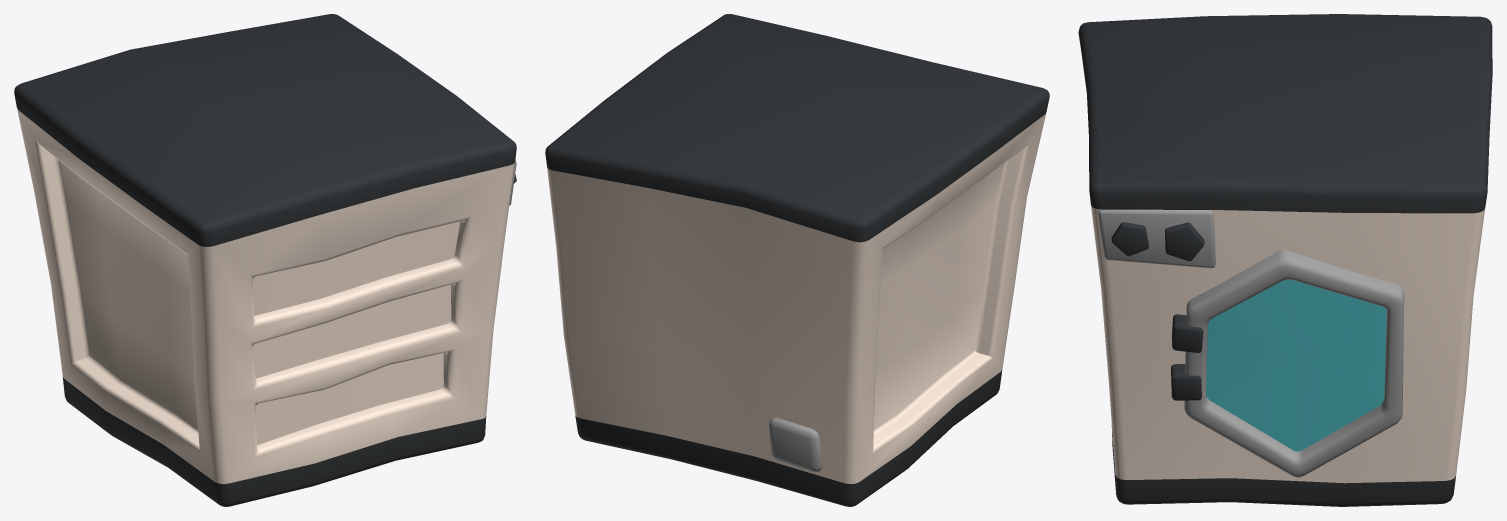
Rendered from props_dryingMachine.fbx.
3 views of the same model, side by side, from view 1: azimuth 30°, elevation 25°; view 2: azimuth 150°, elevation 25°; view 3: azimuth 270°, elevation 25° (orthographic). The views are drawn at different scales.
Parts seen in each view (by area): view 1: dryingMachine, dryingMachine.002; view 2: dryingMachine, dryingMachine.002, dryingMachine.001; view 3: dryingMachine.002, dryingMachine, dryingMachine.003, dryingMachine.001.
Part boxes in pixels (x1,y1,x2,y2): dryingMachine: (17,108,514,484); dryingMachine.002: (14,14,516,506); dryingMachine: (547,113,1046,483); dryingMachine.002: (545,14,1049,506); dryingMachine.001: (769,417,822,471); dryingMachine.002: (1078,14,1492,506); dryingMachine: (1091,205,1484,483); dryingMachine.003: (1206,279,1386,451); dryingMachine.001: (1098,209,1404,477).
Bounding box in the file's own units: 172 × 154 × 165.
